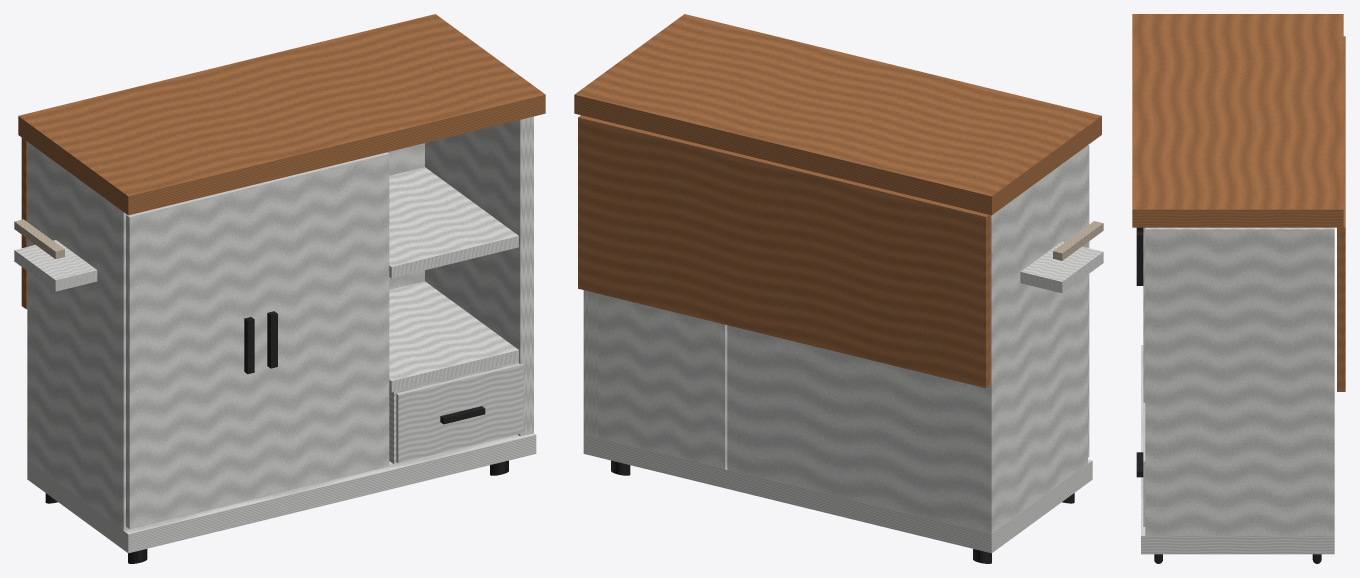
3 renders of one model, left to right at view 1: azimuth 30°, elevation 25°; view 2: azimuth 150°, elevation 25°; view 3: azimuth 270°, elevation 25°, orthographic. The views are drawn at different scales.
Visible parts, largest first — view 1: 1 butcher_block_top, 5 left_door, 6 right_door, 4 left_cabinet_body, 9 right_side_panel, 3 base_plinth, 11 middle_shelf, 12 lower_shelf_above_drawer, 14 drawer_front, 16 spice_rack_base, 10 right_back_panel, 2 drop_leaf (+2 smaller); view 2: 2 drop_leaf, 4 left_cabinet_body, 1 butcher_block_top, 10 right_back_panel, 3 base_plinth, 16 spice_rack_base, 9 right_side_panel, 17 spice_rack_rail; view 3: 9 right_side_panel, 1 butcher_block_top, 3 base_plinth, 2 drop_leaf, 6 right_door, 8 right_door_handle, 14 drawer_front.
Boxes of the visible parts, x1,y1,x2,y2 form: 1 butcher_block_top: (18, 14, 545, 215); 5 left_door: (126, 184, 259, 528); 6 right_door: (258, 152, 389, 497); 4 left_cabinet_body: (27, 142, 387, 530); 9 right_side_panel: (425, 116, 533, 436); 3 base_plinth: (27, 433, 536, 553); 11 middle_shelf: (389, 167, 518, 278); 12 lower_shelf_above_drawer: (389, 281, 518, 392); 14 drawer_front: (396, 363, 523, 463); 16 spice_rack_base: (14, 240, 97, 291); 10 right_back_panel: (388, 143, 424, 289); 2 drop_leaf: (21, 138, 27, 309); 2 drop_leaf: (578, 115, 990, 387); 4 left_cabinet_body: (727, 145, 1087, 534); 1 butcher_block_top: (574, 14, 1101, 215); 10 right_back_panel: (590, 292, 727, 469); 3 base_plinth: (583, 435, 1092, 553); 16 spice_rack_base: (1020, 241, 1103, 293); 9 right_side_panel: (583, 290, 597, 437); 17 spice_rack_rail: (1053, 221, 1103, 260); 9 right_side_panel: (1145, 227, 1334, 535); 1 butcher_block_top: (1132, 14, 1343, 227); 3 base_plinth: (1141, 345, 1334, 554); 2 drop_leaf: (1337, 36, 1345, 391); 6 right_door: (1143, 227, 1145, 402); 8 right_door_handle: (1136, 231, 1143, 285); 14 drawer_front: (1143, 402, 1145, 526).
Size of the model in its own units: 1.25 by 1 by 0.53.
5 materials, 3 textured.
